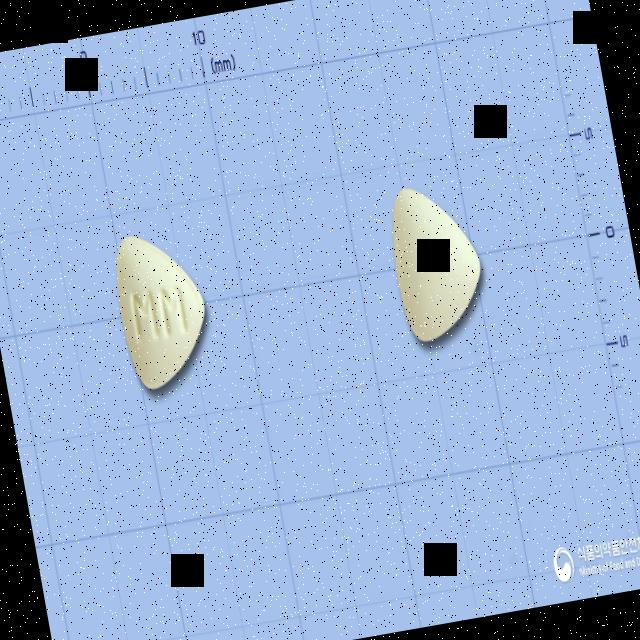Leflunomide: (107, 223, 218, 395)
